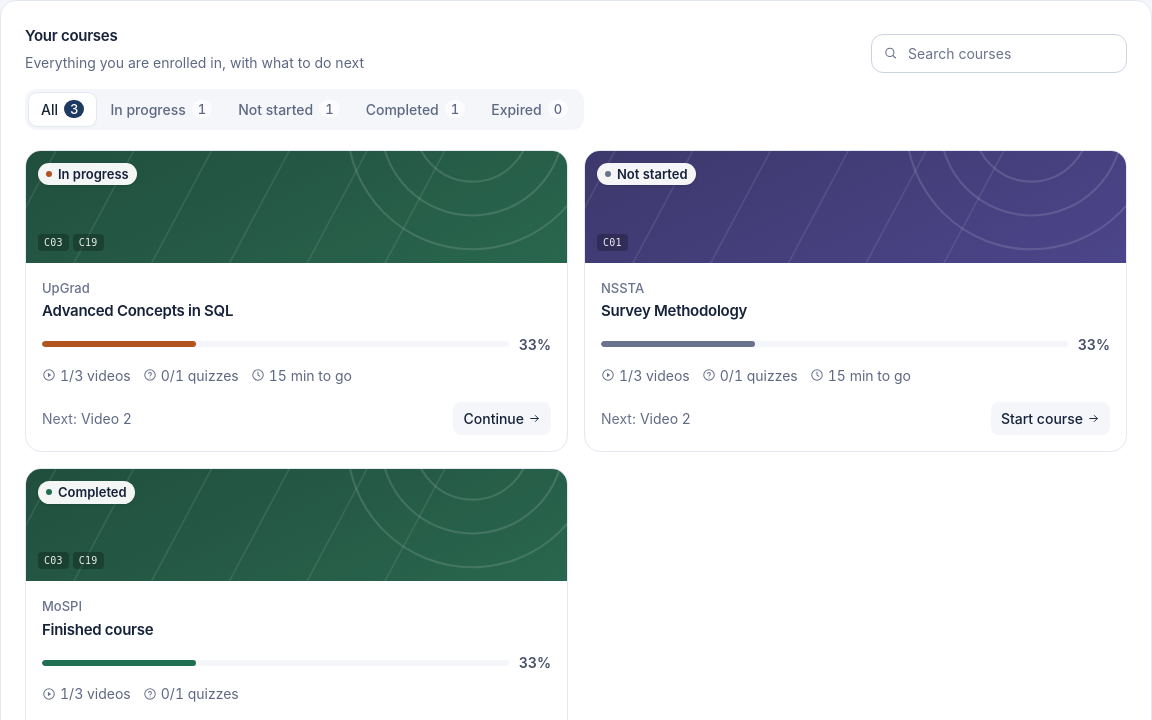
CourseLibrary › explains an empty filter instead of showing nothing
The width and height of the screenshot is (1152, 720).
Click the button "Expired 0": click(530, 109) 479,92 -> 580,126
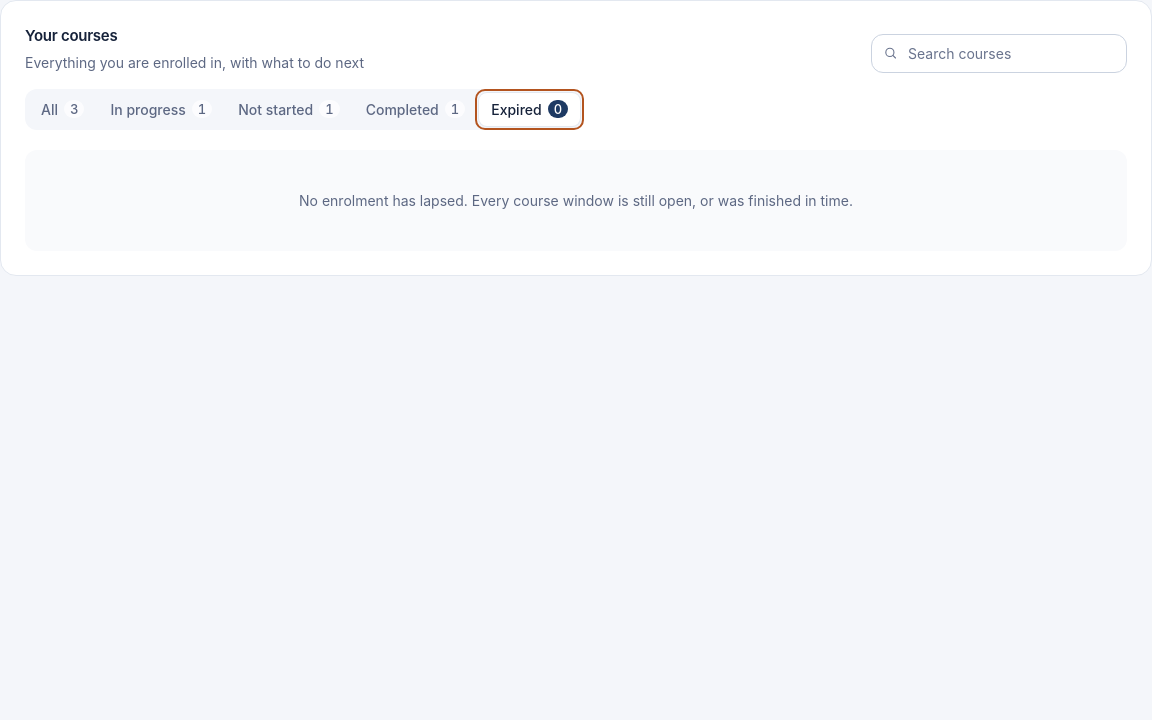
Check: the text "No enrolment has lapsed" is shown, box 299,192 -> 853,208
